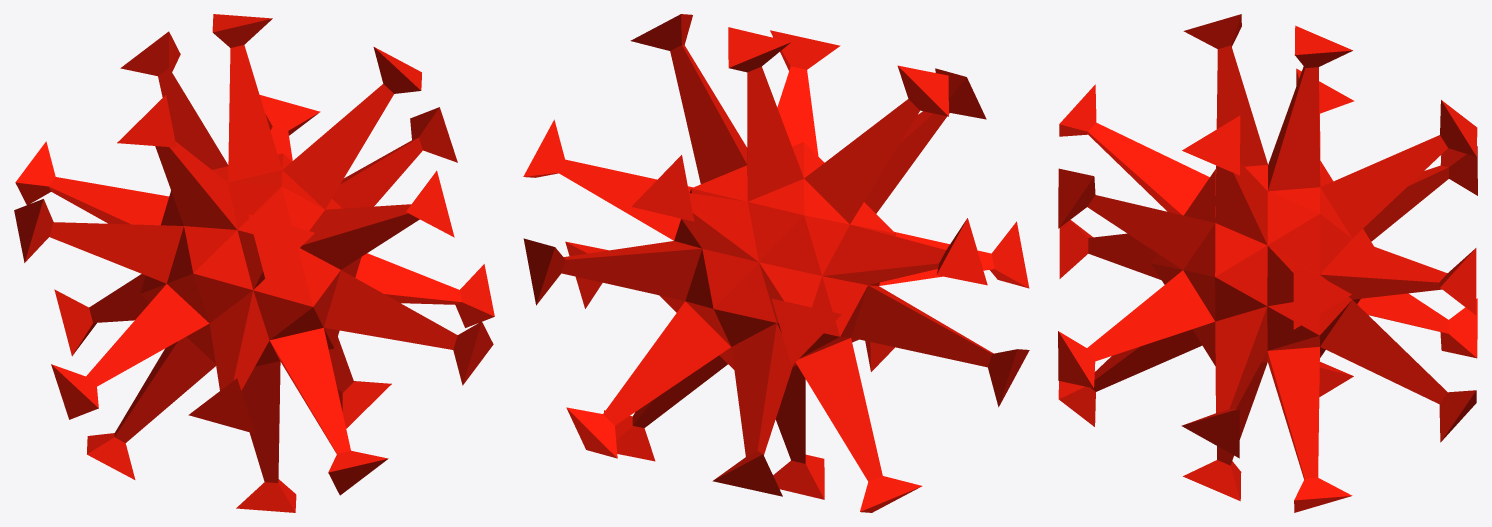
The model's file is Virus.fbx.
The picture shows the model from 3 angles, left to right: view 1: azimuth 30°, elevation 25°; view 2: azimuth 150°, elevation 25°; view 3: azimuth 270°, elevation 25°; orthographic projection. The views are drawn at different scales.
Parts seen in each view (by area): view 1: Virus_3.008; view 2: Virus_3.008; view 3: Virus_3.008.
Boxes of the visible parts, <box> form: Virus_3.008: <box>14,14,494,512</box>; Virus_3.008: <box>523,14,1029,512</box>; Virus_3.008: <box>1058,14,1477,512</box>.
Size of the model in its own units: 475 by 477 by 405.
